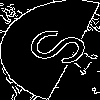S: (24, 25, 100, 73)
